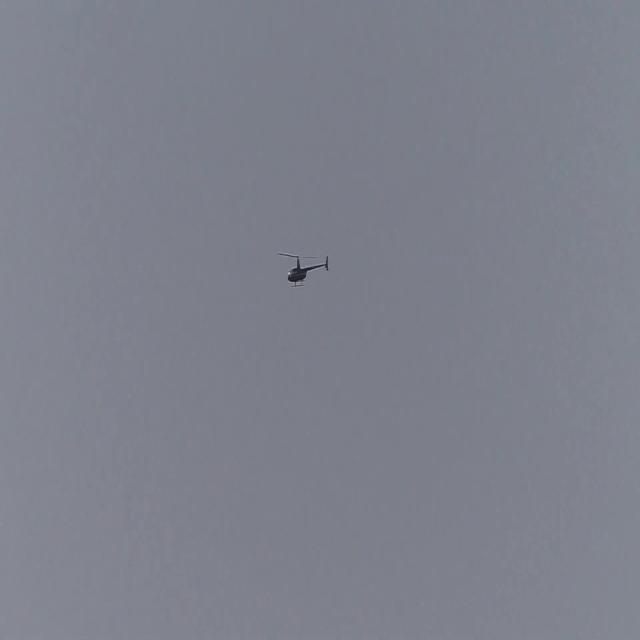CIV_HELO: (288, 255, 330, 288)
